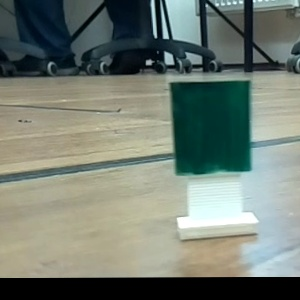rect: (160, 79, 269, 248)
